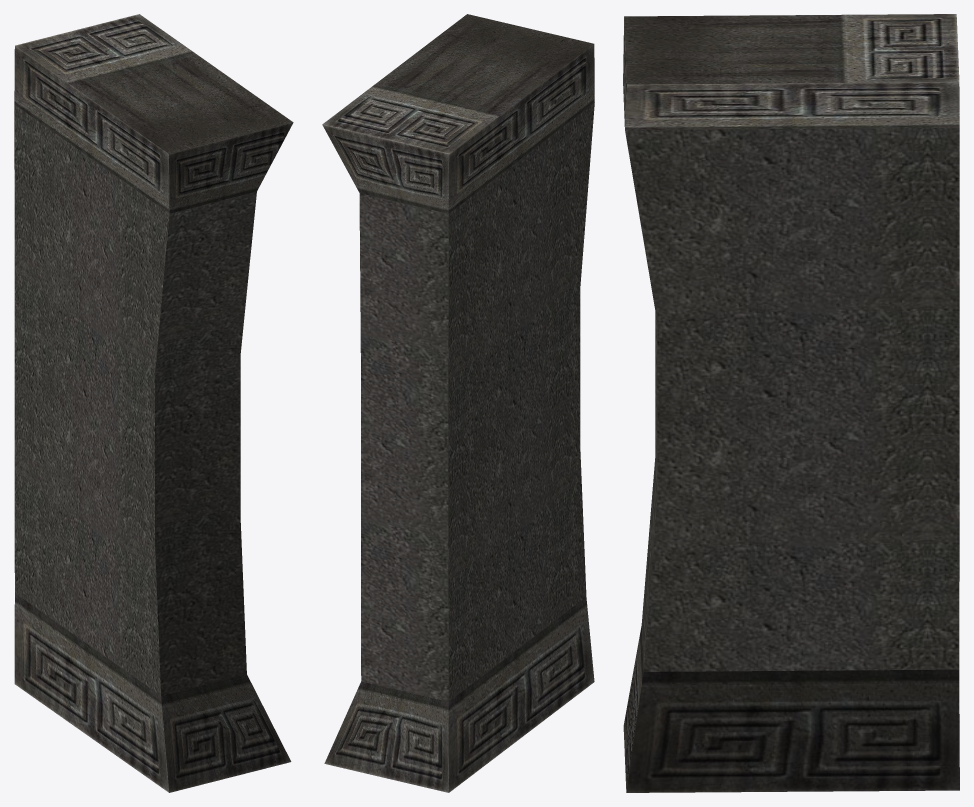
The picture shows the model from 3 angles, left to right: view 1: azimuth 30°, elevation 25°; view 2: azimuth 150°, elevation 25°; view 3: azimuth 270°, elevation 25°; orthographic projection. The views are drawn at different scales.
Parts seen in each view (by area): view 1: Box126; view 2: Box126; view 3: Box126.
Boxes of the visible parts, left/top/right/bottom form: Box126: left=14, top=14, right=293, bottom=792; Box126: left=322, top=14, right=594, bottom=792; Box126: left=623, top=14, right=959, bottom=792.
Size of the model in its own units: 26.78 by 125 by 53.96.
